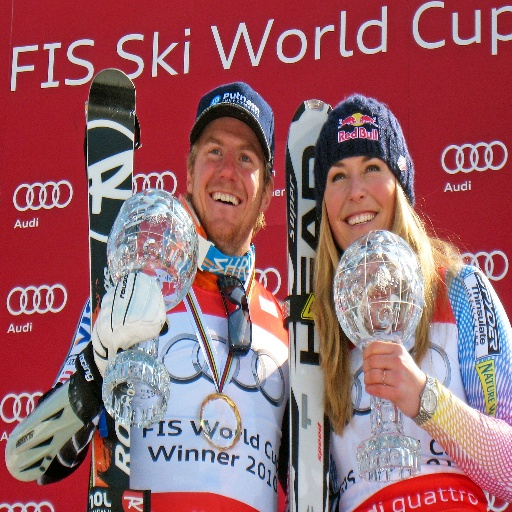hand: (90, 267, 172, 382), (354, 343, 447, 425)
